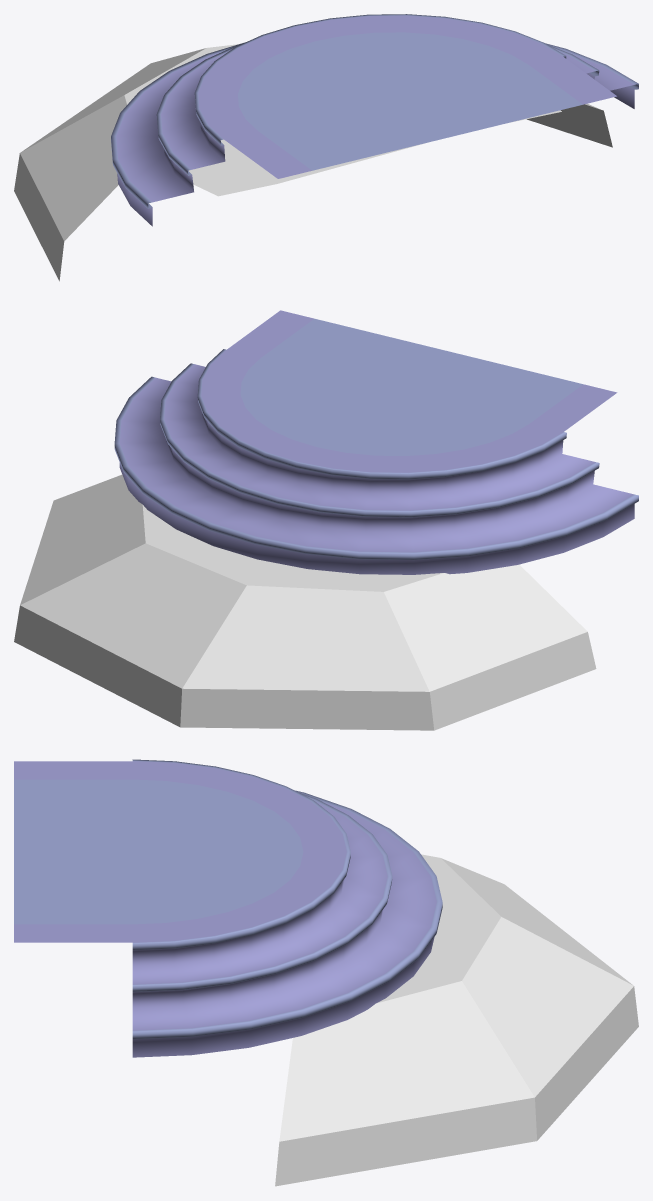
File: SmallstepsFullRound.fbx
3 views of the same model, one above another, from view 1: azimuth 30°, elevation 25°; view 2: azimuth 150°, elevation 25°; view 3: azimuth 270°, elevation 25° (orthographic). The views are drawn at different scales.
Parts seen in each view (by area): view 1: Stairs_Round_Hemi, StairsFullRoundColMesh; view 2: Stairs_Round_Hemi, StairsFullRoundColMesh; view 3: Stairs_Round_Hemi, StairsFullRoundColMesh.
Part boxes in pixels (x1,y1,x2,y2): Stairs_Round_Hemi: (111,14,638,226); StairsFullRoundColMesh: (14,44,612,281); Stairs_Round_Hemi: (114,310,638,574); StairsFullRoundColMesh: (14,474,596,730); Stairs_Round_Hemi: (14,759,442,1057); StairsFullRoundColMesh: (275,854,638,1186).
Size of the model in its own units: 646 by 186 by 577.
